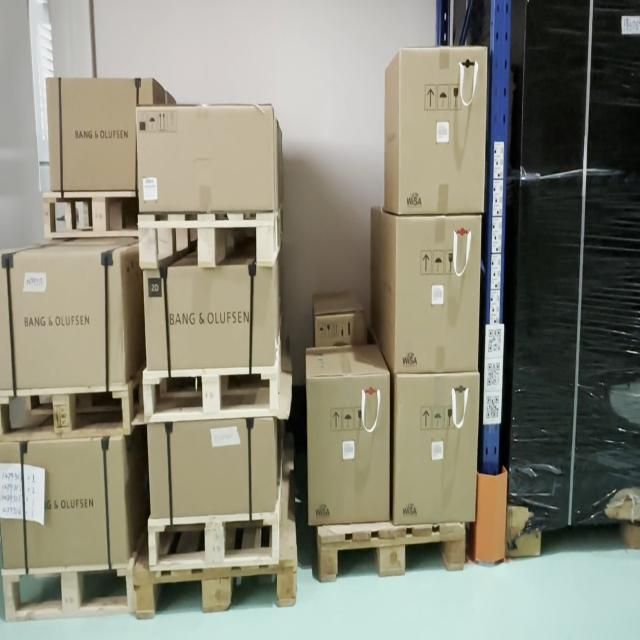box: (399, 43, 486, 210), (135, 113, 276, 209), (147, 268, 276, 369), (397, 219, 480, 374), (307, 384, 390, 520), (147, 425, 273, 513), (398, 379, 477, 519)
